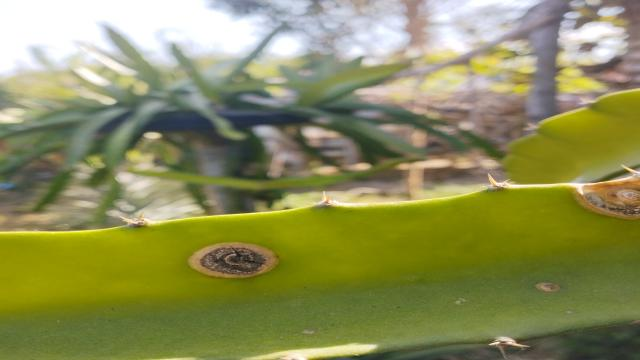stemcanker: (526, 275, 566, 298)
